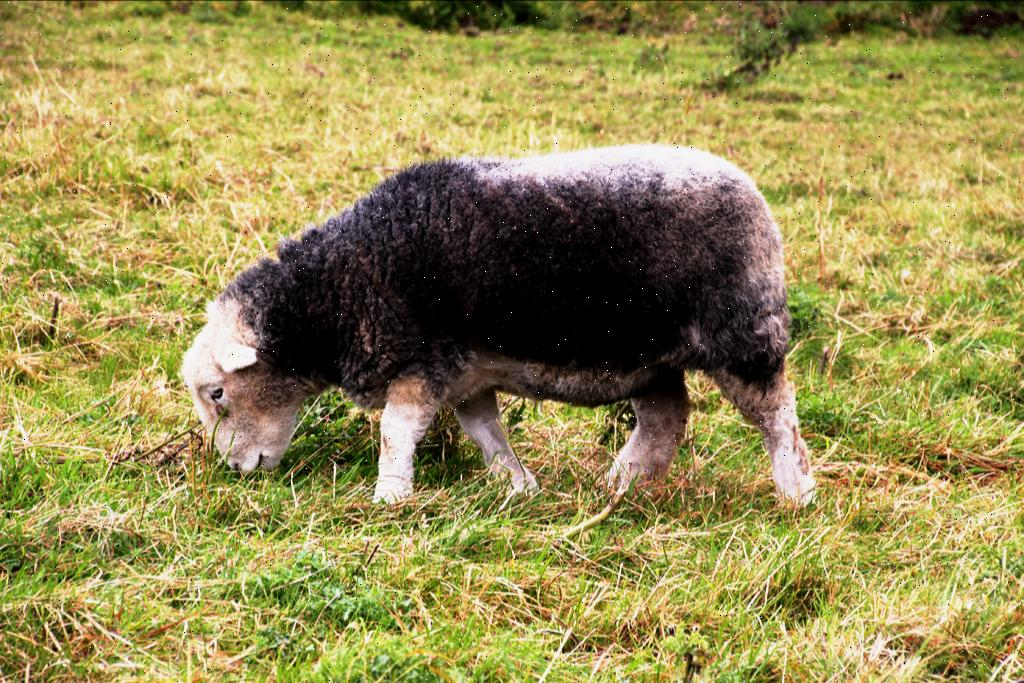Sheep: (184, 151, 809, 513)
